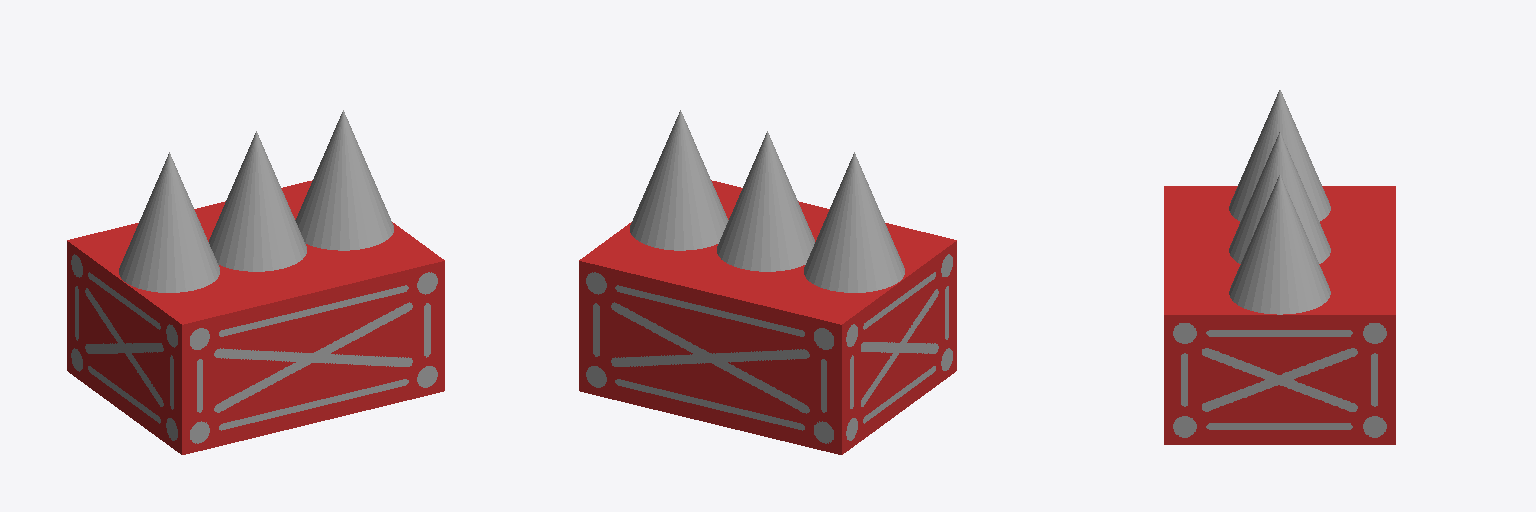
3 renders of one model, left to right at view 1: azimuth 30°, elevation 25°; view 2: azimuth 150°, elevation 25°; view 3: azimuth 270°, elevation 25°, orthographic.
Parts seen in each view (by area): view 1: Cube; view 2: Cube; view 3: Cube.
Part boxes in pixels (bbox=[...]): Cube: bbox=[67, 110, 444, 454]; Cube: bbox=[579, 110, 956, 454]; Cube: bbox=[1164, 90, 1395, 444].
Bounding box in the file's own units: 1 × 0.9094 × 0.7615.
1 materials, 1 textured.